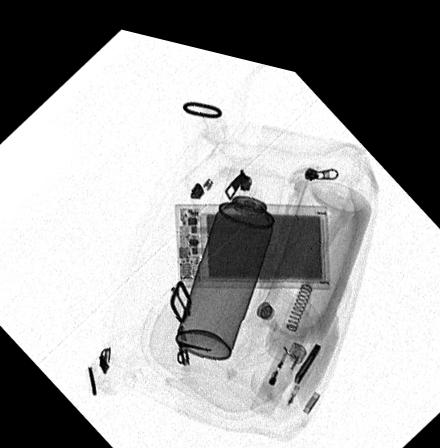Lighter: (248, 325, 308, 405)
Powerbank: (174, 190, 329, 279)
Sprayer: (175, 147, 285, 349)
